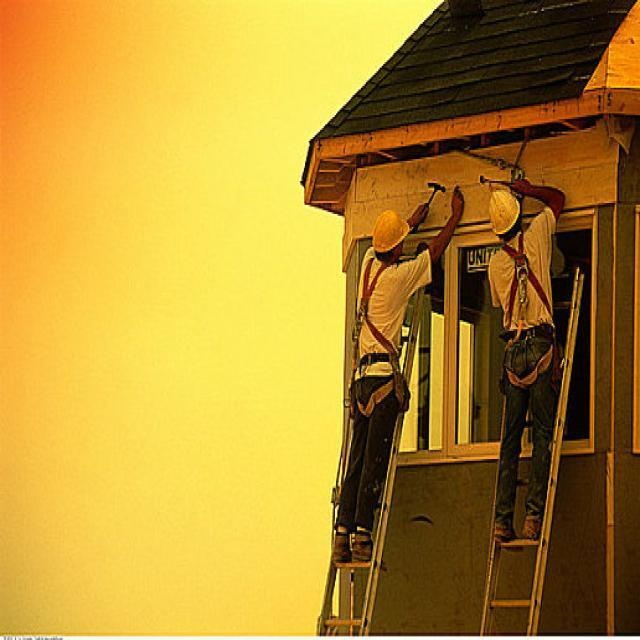Arnes_seguridad: (495, 225, 561, 393), (349, 245, 411, 419)
